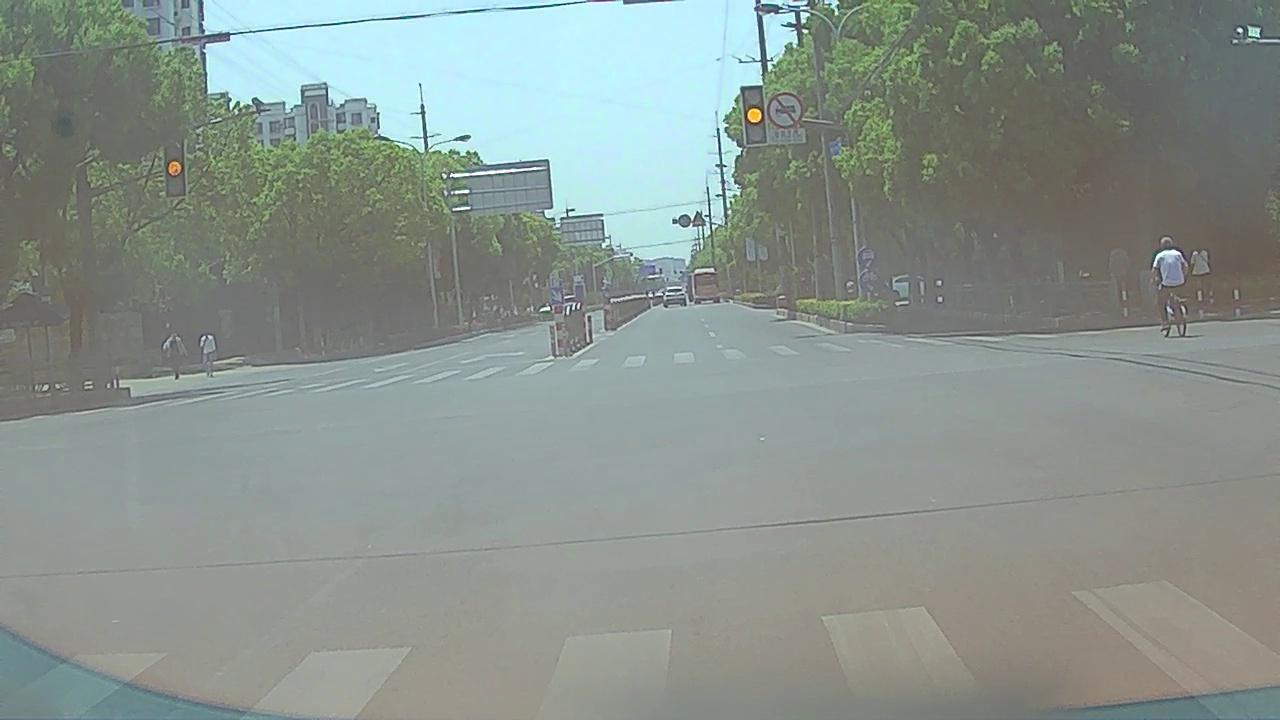traffic_light: (743, 85, 765, 144), (165, 140, 187, 196)
